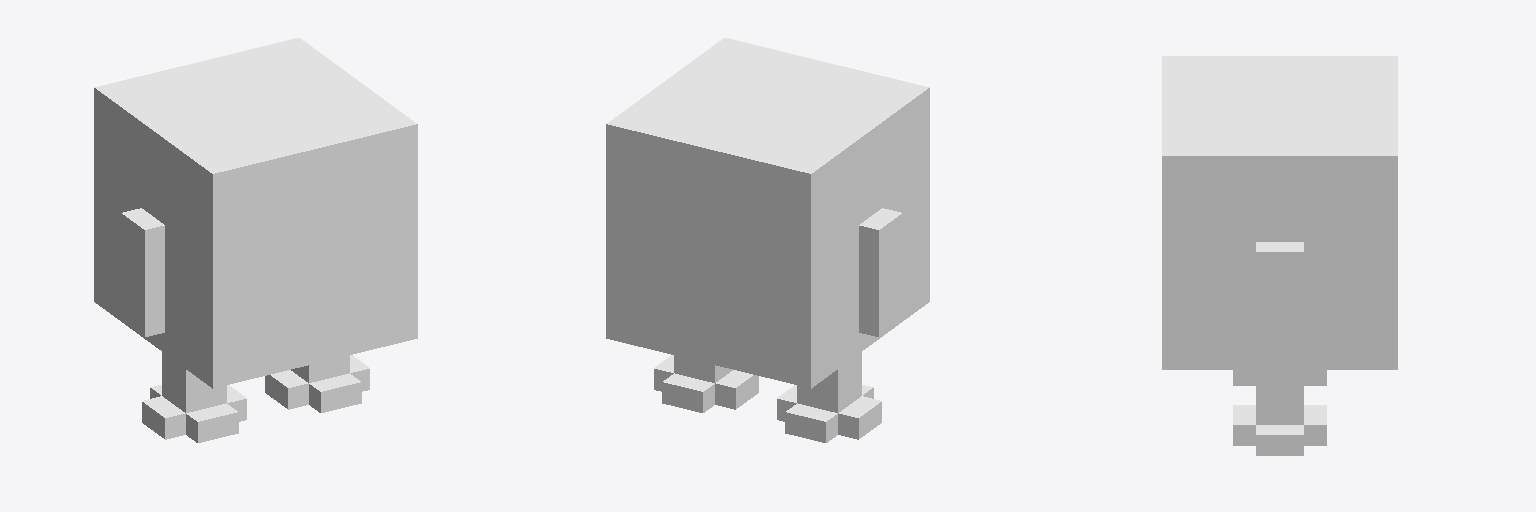
Rendered from cube_boy_1.obj.
3 views of the same model, side by side, from view 1: azimuth 30°, elevation 25°; view 2: azimuth 150°, elevation 25°; view 3: azimuth 270°, elevation 25° (orthographic).
Visible parts, largest first — view 1: object 1; view 2: object 1; view 3: object 1.
Part boxes in pixels (x1,y1,x2,y2): object 1: (94, 38, 417, 442); object 1: (606, 38, 929, 442); object 1: (1162, 56, 1397, 455).
Bounding box in the file's own units: 1.2 × 1.4 × 1.